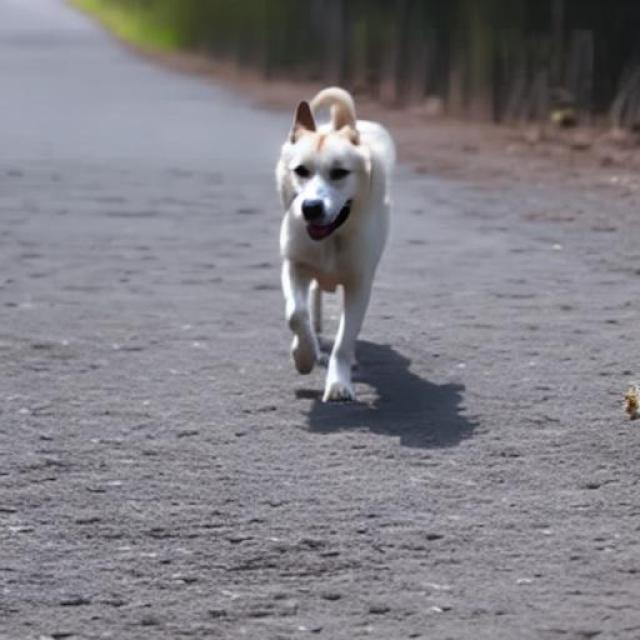Dog: (276, 85, 396, 403)
